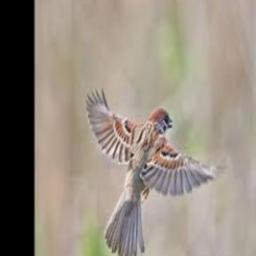Sparrow: (85, 86, 223, 256)
